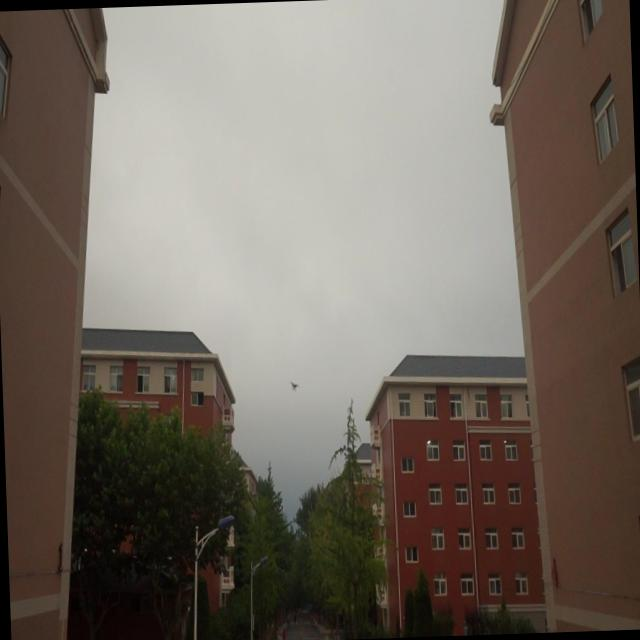drone: (288, 378, 299, 394)
